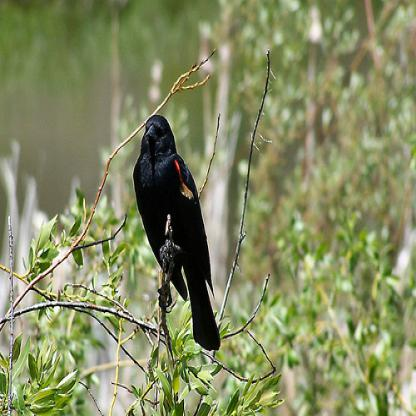bird: (132, 114, 220, 351)
